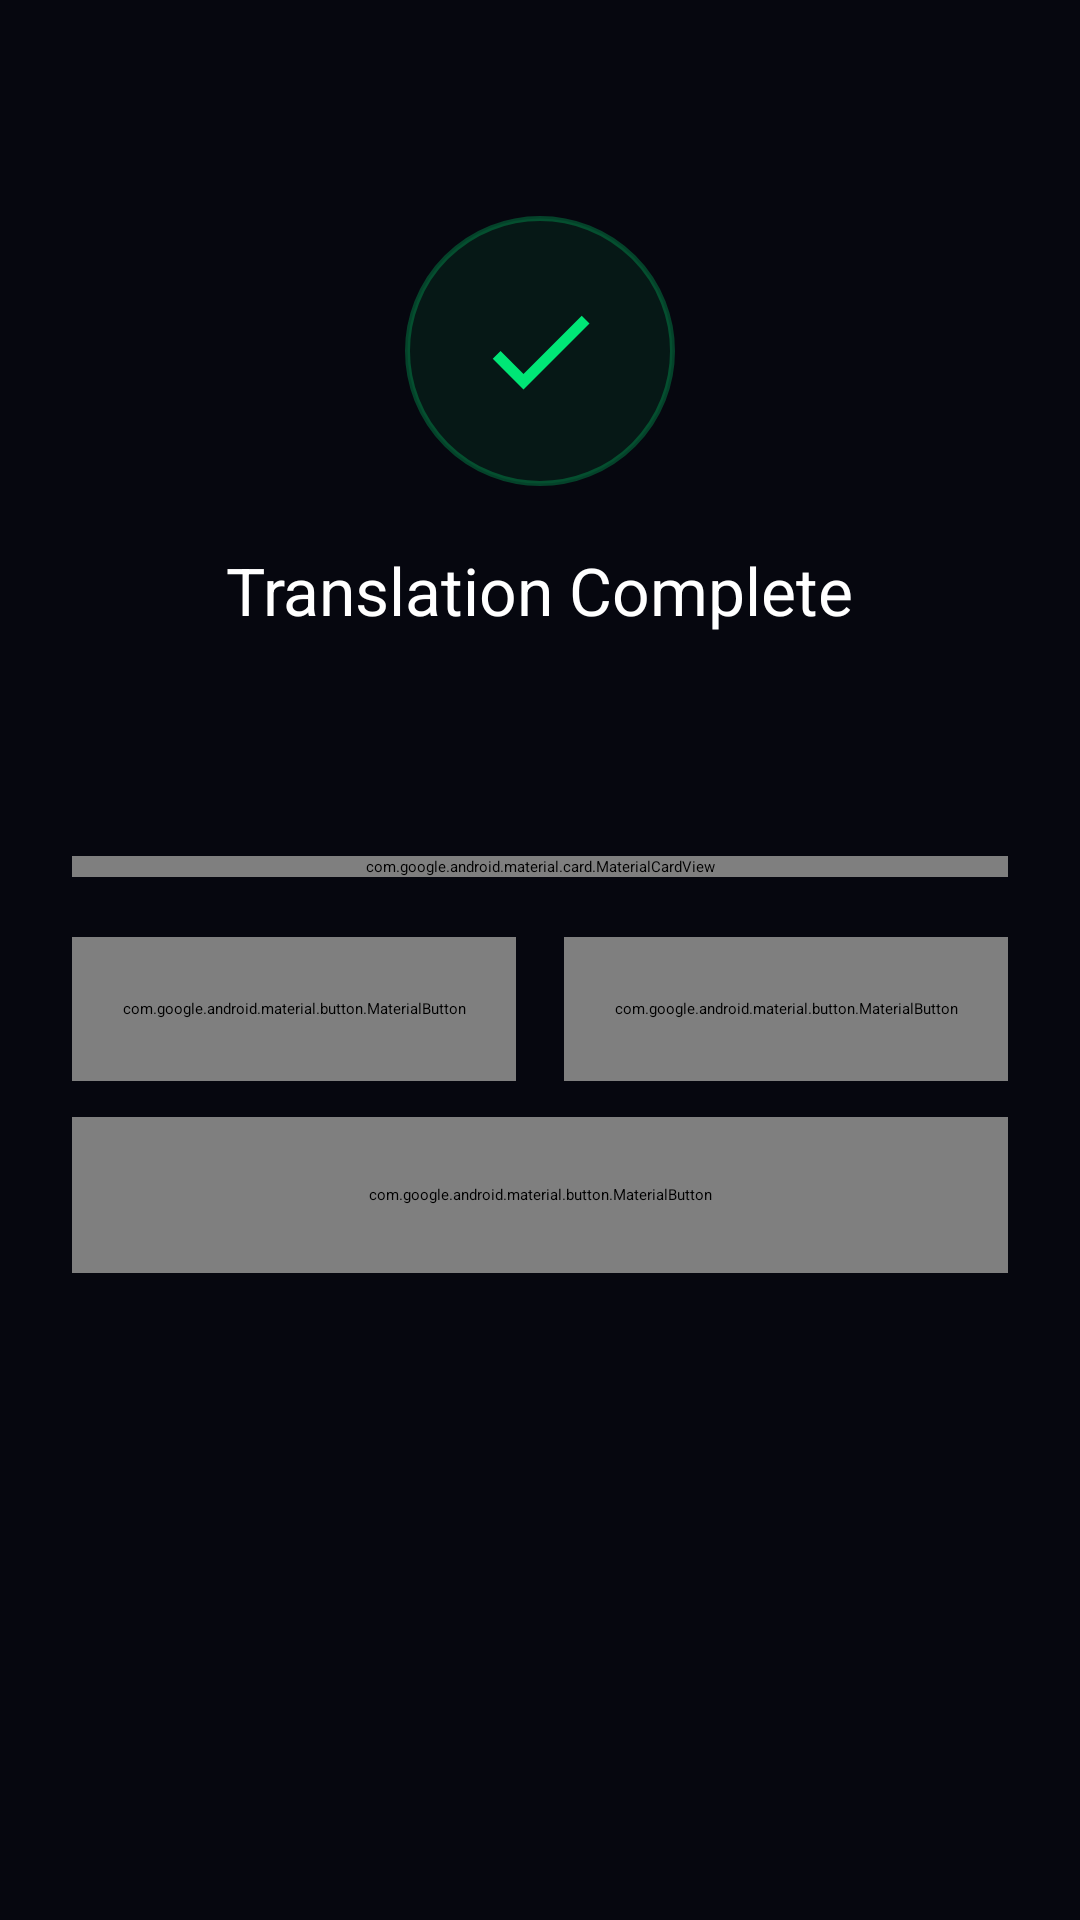

Icon bounding boxes for this 1080w x 1920h phone screenshot, format (x1,y1,x2,y2):
check: (493,316,590,390)
